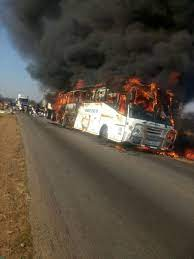smoke: (1, 1, 194, 88)
